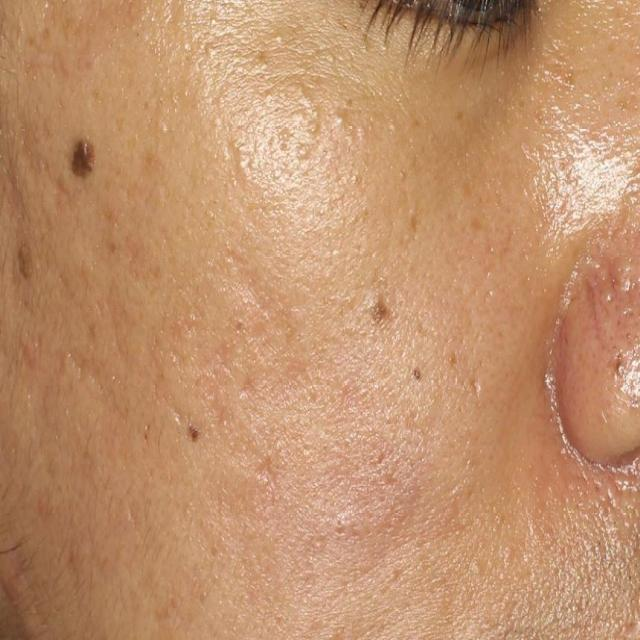dark spot: (65, 133, 104, 192)
